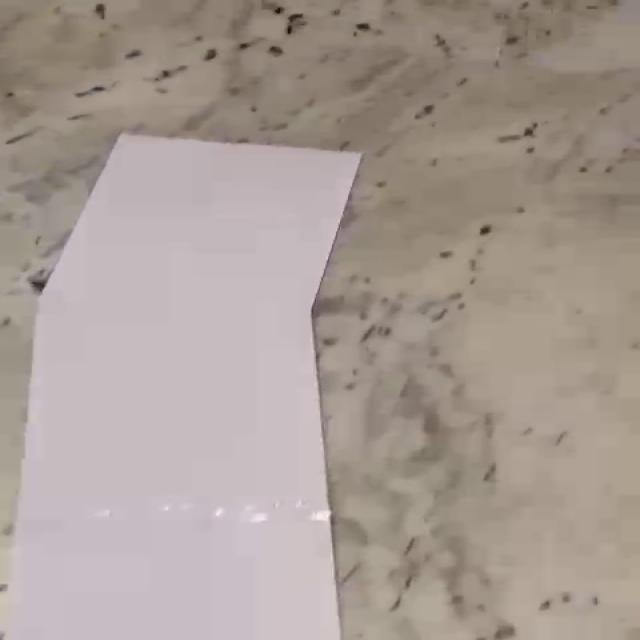road: (7, 135, 360, 640)
